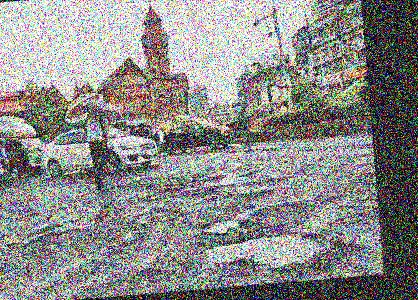pothole: (199, 228, 331, 275), (134, 205, 182, 227), (202, 215, 242, 234), (201, 187, 232, 199)
